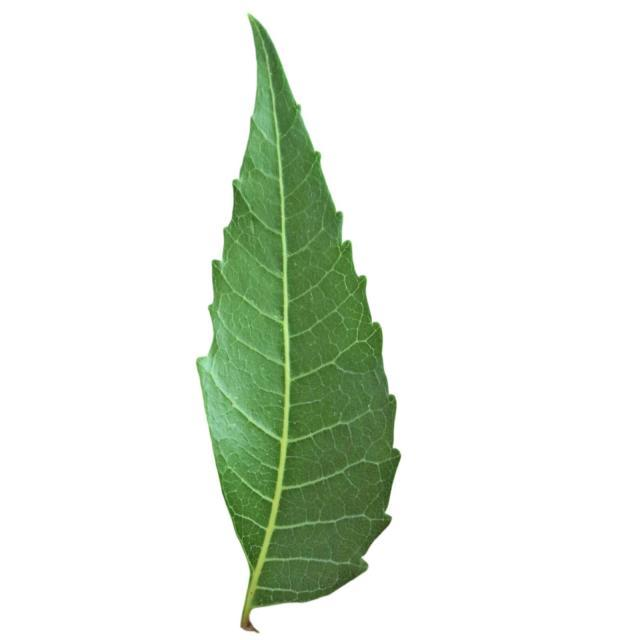Wet: (183, 9, 420, 632)
